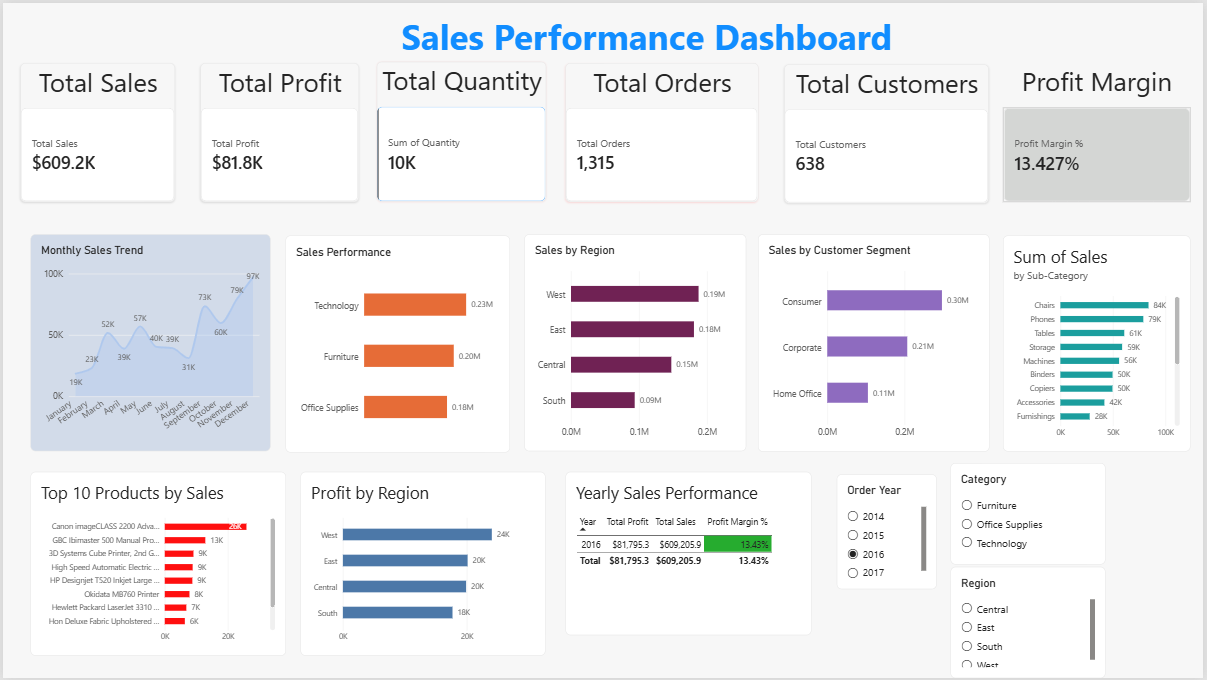

The page's visual inventory and layout, read from the dashboard file:
{"tool":"powerbi","page":{"name":"Executive Dashboard","canvas":[1920,1080],"ordinal":0},"visuals":[{"type":"cardVisual","title":"Total Sales","fields":{"Data":["sales.Total Sales"]},"box":[28.6,96,247.2,222.7],"z":0},{"type":"cardVisual","title":"Total Profit","fields":{"Data":["sales.Total Profit"]},"box":[316.7,96,253.3,222.7],"z":1000},{"type":"cardVisual","title":"Total Quantity","fields":{"Data":["Sum(sales.Quantity)"]},"box":[597.2,94.1,271.4,224.4],"z":2000},{"type":"cardVisual","title":"Total Orders","fields":{"Data":["sales.Total Orders Text"]},"box":[900,95,308.5,222.7],"z":3000},{"type":"cardVisual","title":"Total Customers","fields":{"Data":["sales.Total Customers"]},"box":[1250,97.5,327.5,222.5],"z":4000},{"type":"cardVisual","title":" Profit Margin","fields":{"Data":["sales.Profit Margin %"]},"box":[1600,95.7,300,222.9],"z":5000},{"type":"lineChart","title":"Monthly Sales Trend","fields":{"Category":["sales.Order Month"],"Y":["Sum(sales.Sales)"]},"box":[44.7,369.5,383.7,347.1],"z":6000},{"type":"clusteredBarChart","title":"Sales Performance","fields":{"Category":["sales.Category"],"Y":["Sum(sales.Sales)"]},"box":[452.7,371.5,359.3,347.1],"z":7000},{"type":"clusteredBarChart","title":"Sales by Region","fields":{"Category":["sales.Region"],"Y":["Sum(sales.Sales)"]},"box":[834.3,369.5,355,347.5],"z":8000},{"type":"clusteredBarChart","title":"Sales by Customer Segment","fields":{"Category":["sales.Segment"],"Y":["Sum(sales.Sales)"]},"box":[1207.9,369.5,370.5,347.9],"z":9000},{"type":"clusteredBarChart","fields":{"Category":["sales.Sub-Category"],"Y":["Sum(sales.Sales)"]},"box":[1600,371.4,300,345.7],"z":10000},{"type":"clusteredBarChart","title":"Top 10 Products by Sales","fields":{"Category":["sales.Product Name"],"Y":["Sum(sales.Sales)"]},"box":[44.9,749.8,408.6,294.2],"z":11000},{"type":"clusteredBarChart","title":"Profit by Region","fields":{"Category":["sales.Region"],"Y":["Sum(sales.Profit)"]},"box":[476,749.8,392.3,294.2],"z":12000},{"type":"listSlicer","fields":{"Values":["sales.Order Year"]},"box":[1334,754,160,184],"z":13000},{"type":"textbox","box":[508.7,14.3,1044,81.7],"z":14000},{"type":"listSlicer","fields":{"Values":["sales.Region"]},"box":[1516,902,248,178],"z":15000},{"type":"listSlicer","fields":{"Values":["sales.Category"]},"box":[1516.7,735,248,162],"z":16000},{"type":"tableEx","title":"Yearly Sales Performance","fields":{"Values":["sales.Order Date.Variation.Date Hierarchy.Year","sales.Total Profit","sales.Total Sales","sales.Profit Margin %"]},"box":[900,750,393.3,261.7],"z":17000}]}

Visuals, with their boxes in screenshot pixels (x1, y1, x2, y2), scaled from the page's 1920x1080 canvas onto the 1207x680 screenshot:
"Total Sales" cardVisual: 18 60 173 201
"Total Profit" cardVisual: 199 60 358 201
"Total Quantity" cardVisual: 375 59 546 201
"Total Orders" cardVisual: 566 60 760 200
"Total Customers" cardVisual: 786 61 992 201
" Profit Margin" cardVisual: 1006 60 1194 201
"Monthly Sales Trend" lineChart: 28 233 269 451
"Sales Performance" clusteredBarChart: 285 234 510 452
"Sales by Region" clusteredBarChart: 524 233 748 451
"Sales by Customer Segment" clusteredBarChart: 759 233 992 452
clusteredBarChart - sales.Sub-Category x Sum(sales.Sales): 1006 234 1194 452
"Top 10 Products by Sales" clusteredBarChart: 28 472 285 657
"Profit by Region" clusteredBarChart: 299 472 546 657
listSlicer - sales.Order Year: 839 475 939 591
textbox: 320 9 976 60
listSlicer - sales.Region: 953 568 1109 679
listSlicer - sales.Category: 953 463 1109 565
"Yearly Sales Performance" tableEx: 566 472 813 637
